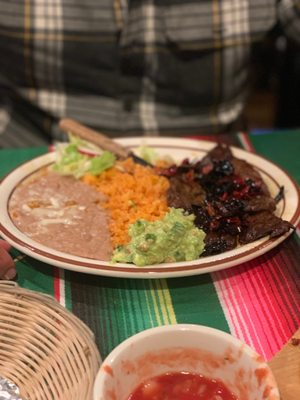curry: (111, 207, 207, 266)
sushi: (92, 324, 281, 400)
